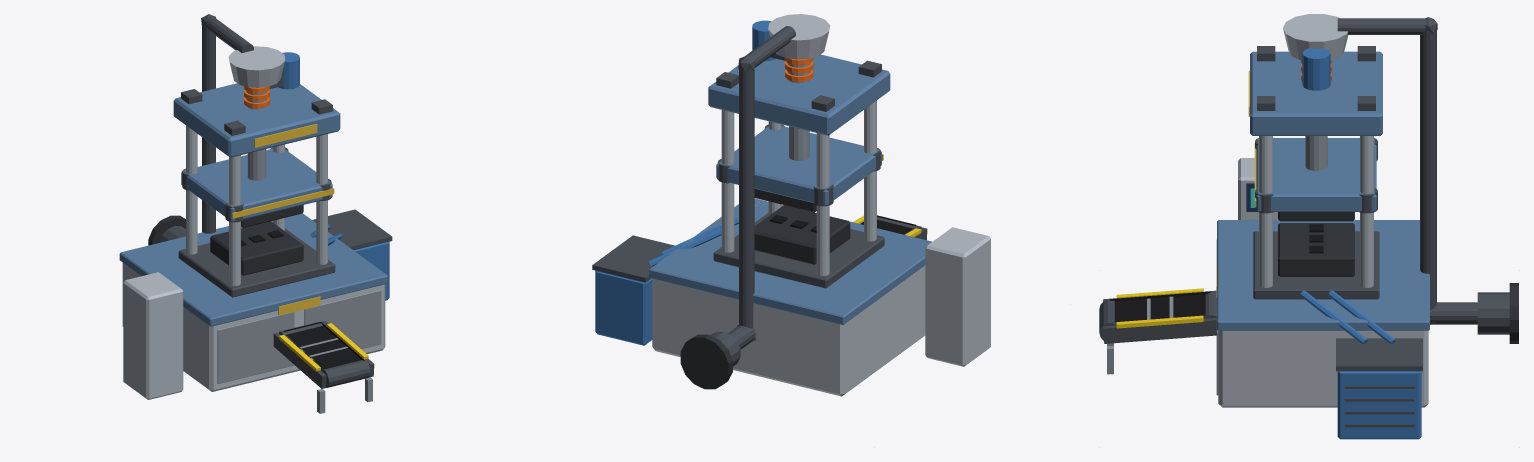
File: presse_plastique_t2.glb
The picture shows the model from 3 angles, left to right: view 1: azimuth 30°, elevation 25°; view 2: azimuth 150°, elevation 25°; view 3: azimuth 270°, elevation 25°; orthographic projection. The views are drawn at different scales.
Parts seen in each view (by area): view 1: pieces_acier_sombre.017, pieces_separateur.002, pieces_acier.017, pieces_gris_clair.004, plateau_fixe.002, coulisseau_separateur.002, socle.004, pieces_inox.002, pieces_fonte.017, pieces_noir.017, tremie.002, pieces_bleu.012 (+5 smaller); view 2: socle.004, pieces_acier_sombre.017, pieces_separateur.002, pieces_gris_clair.004, plateau_fixe.002, coulisseau_separateur.002, pieces_fonte.017, pieces_inox.002, pieces_bleu.012, tremie.002, coulisseau_acier.004, pieces_noir.017 (+2 smaller); view 3: pieces_acier_sombre.017, pieces_separateur.002, socle.004, plateau_fixe.002, pieces_bleu.012, coulisseau_separateur.002, pieces_fonte.017, pieces_inox.002, pieces_noir.017, tremie.002, pieces_rive_t1.012, pieces_gris_clair.004 (+4 smaller).
Part boxes in pixels (<box>): pieces_acier_sombre.017: <box>159,14,392,388</box>; pieces_separateur.002: <box>119,213,388,326</box>; pieces_acier.017: <box>217,91,381,413</box>; pieces_gris_clair.004: <box>123,272,183,399</box>; plateau_fixe.002: <box>173,83,340,157</box>; coulisseau_separateur.002: <box>181,148,332,221</box>; socle.004: <box>122,263,385,391</box>; pieces_inox.002: <box>186,125,327,285</box>; pieces_fonte.017: <box>148,215,303,275</box>; pieces_noir.017: <box>241,230,364,369</box>; tremie.002: <box>228,46,285,87</box>; pieces_bleu.012: <box>278,52,389,300</box>; socle.004: <box>652,201,925,396</box>; pieces_acier_sombre.017: <box>592,26,927,366</box>; pieces_separateur.002: <box>649,198,931,324</box>; pieces_gris_clair.004: <box>925,227,990,366</box>; plateau_fixe.002: <box>708,54,890,135</box>; coulisseau_separateur.002: <box>716,126,881,205</box>; pieces_fonte.017: <box>680,205,850,389</box>; pieces_inox.002: <box>721,100,876,275</box>; pieces_bleu.012: <box>595,20,775,345</box>; tremie.002: <box>768,14,830,59</box>; coulisseau_acier.004: <box>789,126,809,160</box>; pieces_noir.017: <box>770,215,916,234</box>; pieces_acier_sombre.017: <box>1099,17,1509,427</box>; pieces_separateur.002: <box>1217,220,1429,330</box>; socle.004: <box>1218,330,1428,407</box>; plateau_fixe.002: <box>1250,51,1382,135</box>; pieces_bleu.012: <box>1300,48,1421,439</box>; coulisseau_separateur.002: <box>1256,138,1376,211</box>; pieces_fonte.017: <box>1278,223,1518,343</box>; pieces_inox.002: <box>1259,136,1373,287</box>; pieces_noir.017: <box>1109,224,1323,322</box>; tremie.002: <box>1283,14,1348,60</box>; pieces_rive_t1.012: <box>1116,288,1203,328</box>; pieces_gris_clair.004: <box>1238,158,1278,219</box>.
Bounding box in the file's own units: 1.5 × 1.35 × 1.5.
